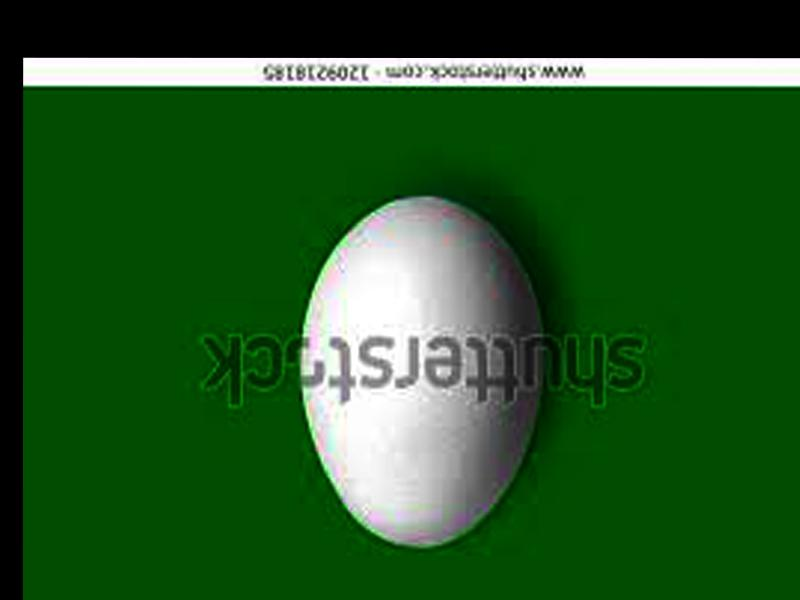Eggs: (301, 198, 546, 548)
